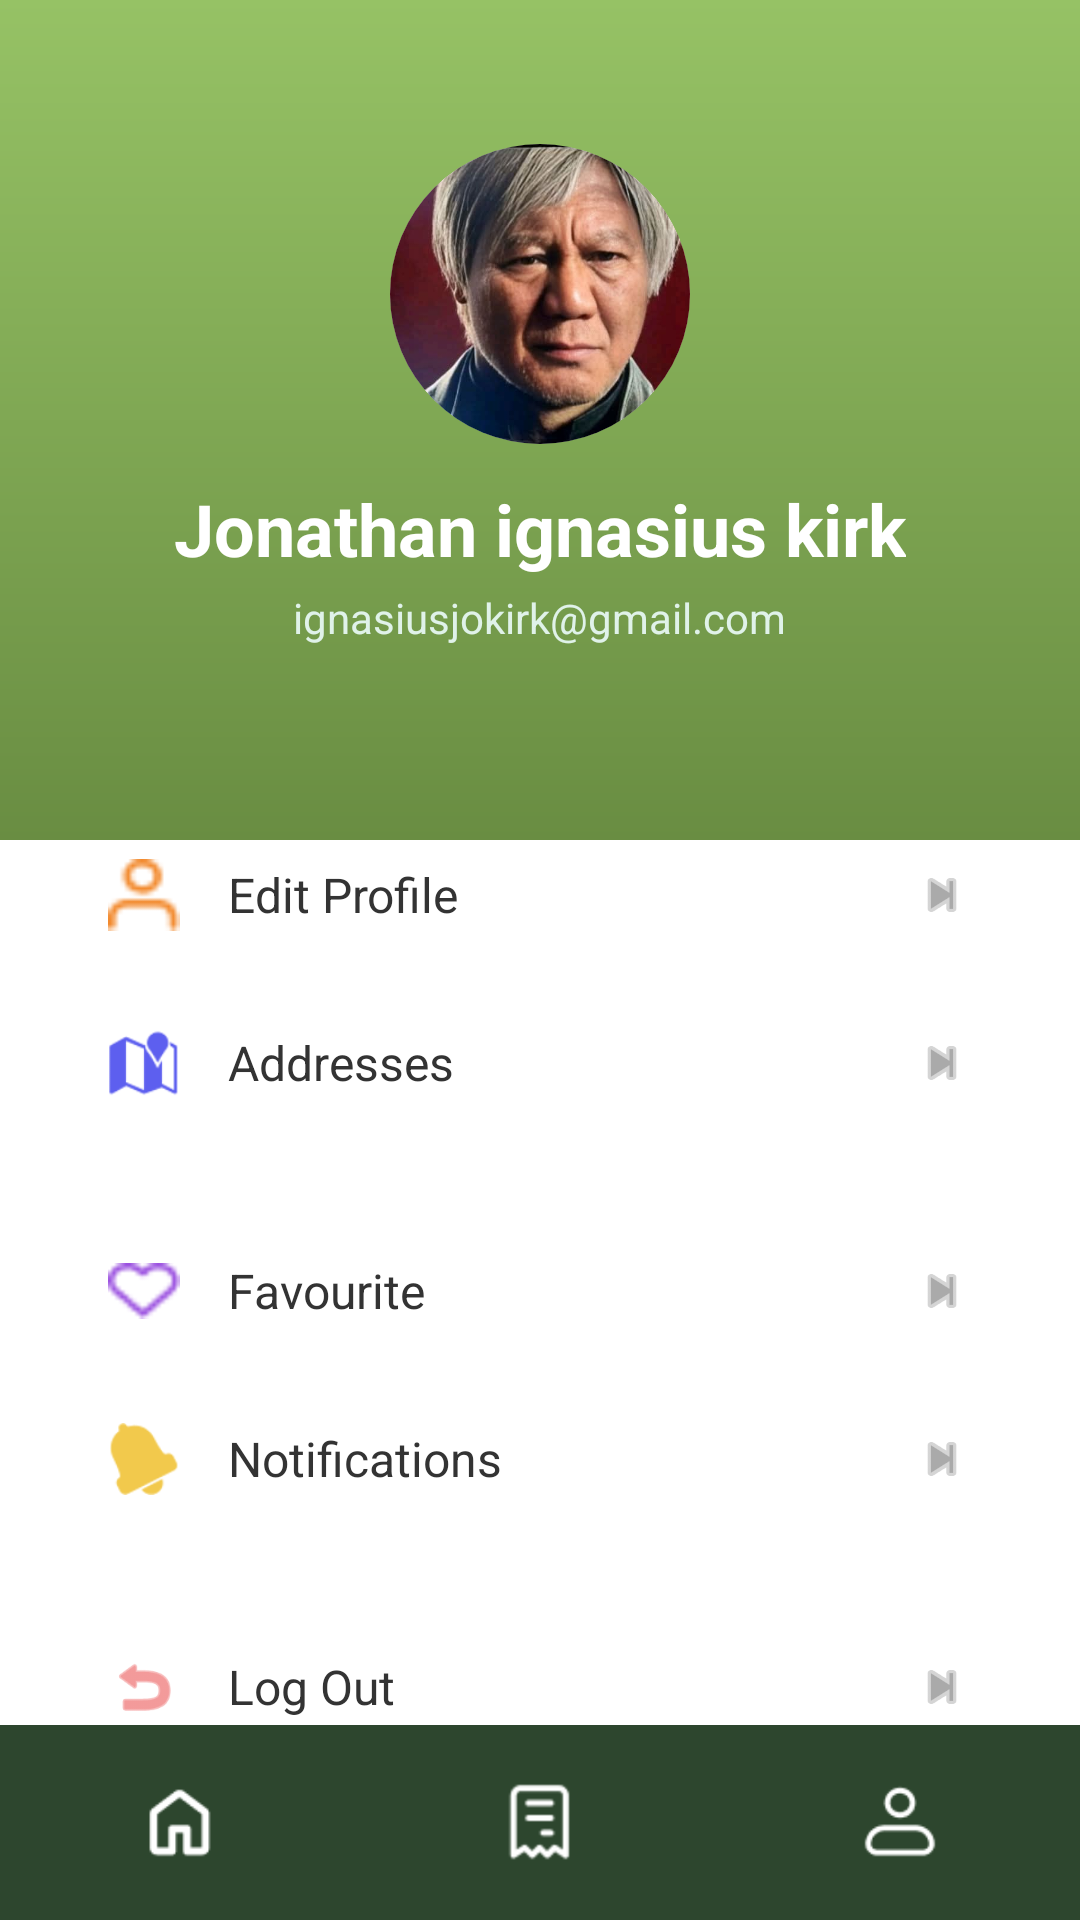

Named icons in this screenshot (1080*1920) and their bounding boxes, (x1,y1,x2,y2):
favorit: (108,1263,180,1319)
home: (149,1789,211,1856)
map: (109,1031,178,1095)
next: (928,878,956,912), (928,1046,956,1080), (928,1274,956,1308), (928,1442,956,1476), (928,1670,956,1704)
popup reminder: (110,1423,178,1495)
profile bar: (864,1787,936,1857)
recipt: (509,1784,570,1860)
revert: (119,1664,171,1711)
